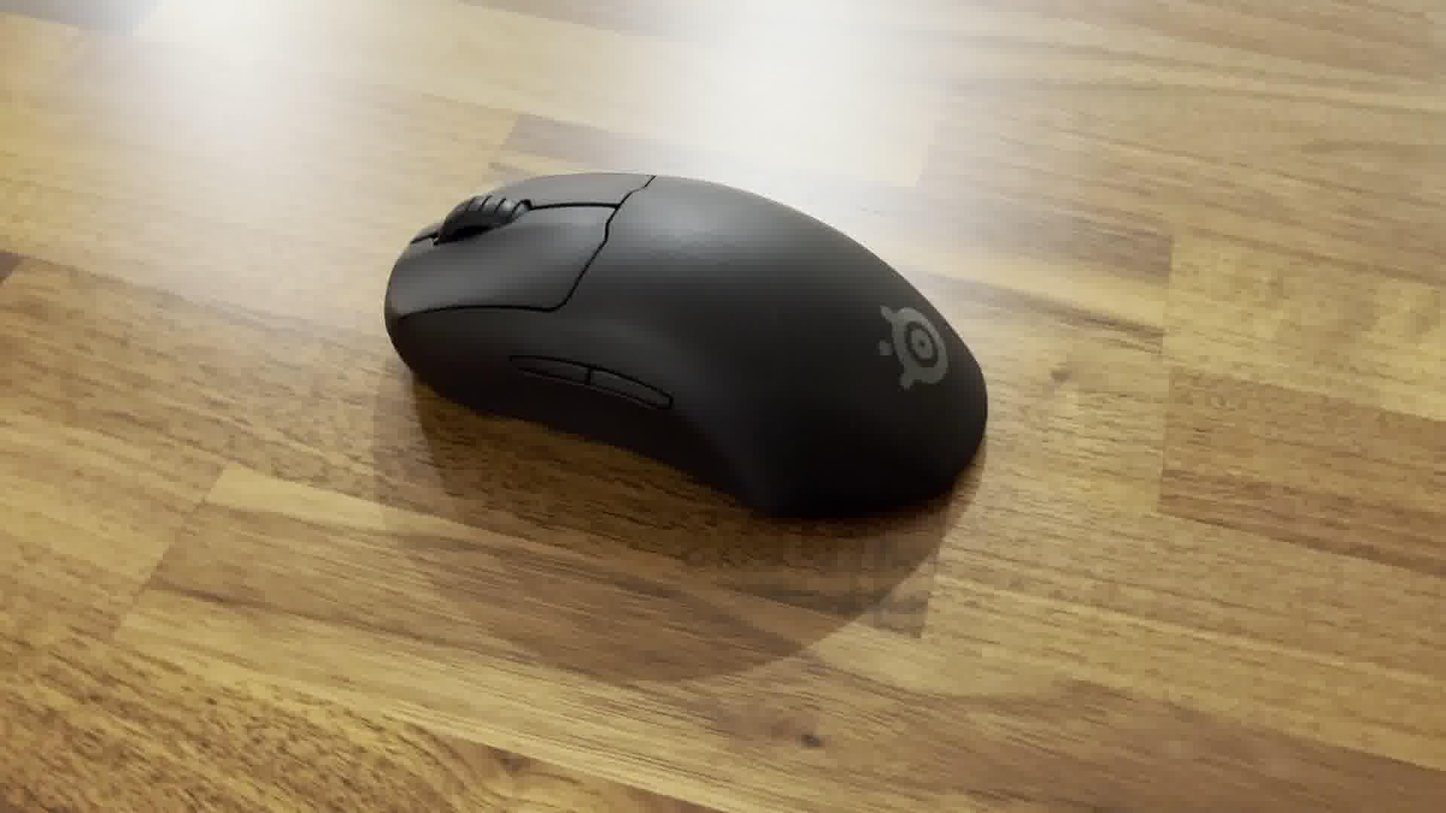mouse: (379, 161, 991, 538)
